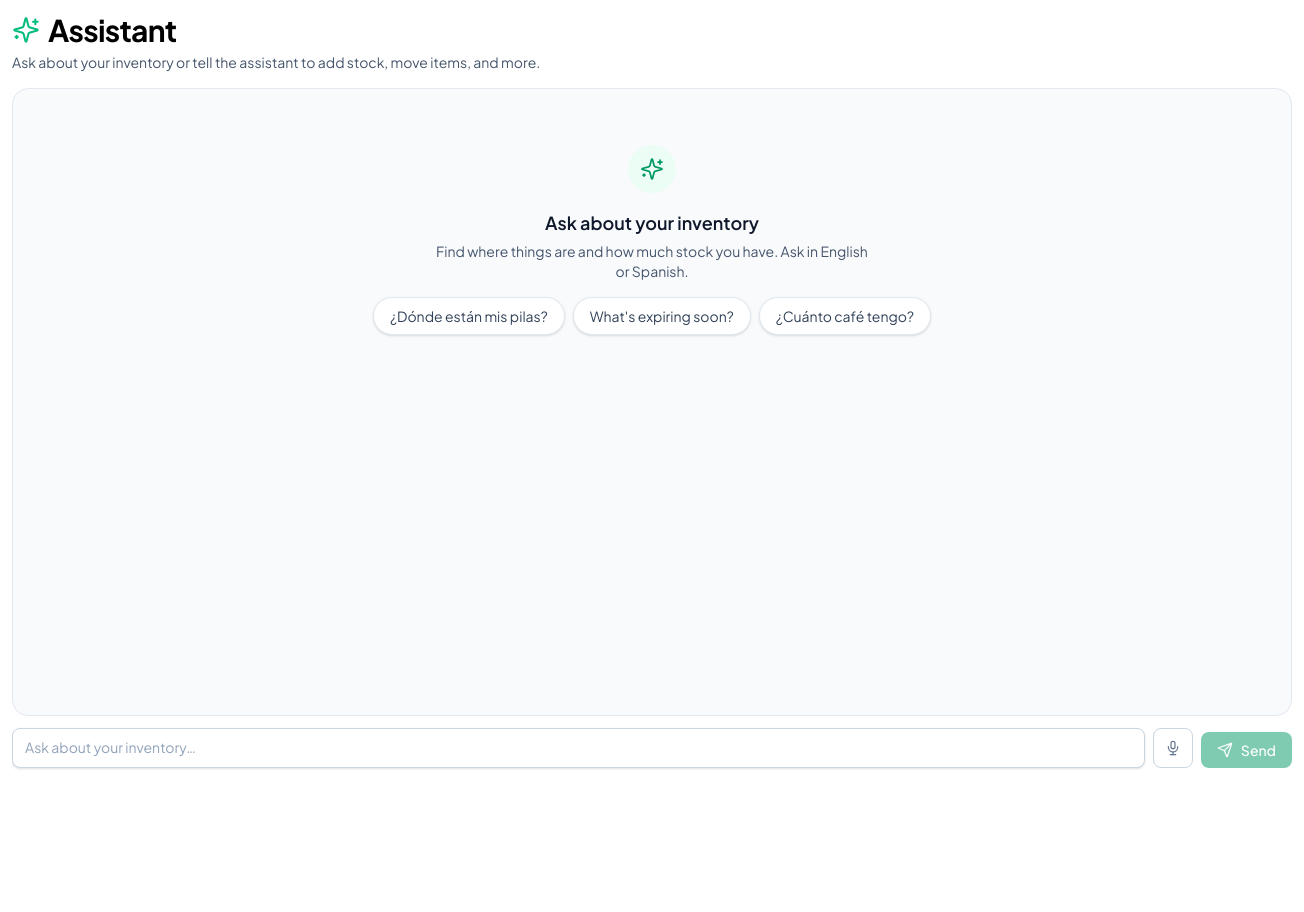
Test case: AssistantView › shows an error when the backend fails
The width and height of the screenshot is (1304, 912).
In the text box named "Ask the assistant": (578, 748) top-left (12, 728), bottom-right (1145, 768), type "Where is the rice?"
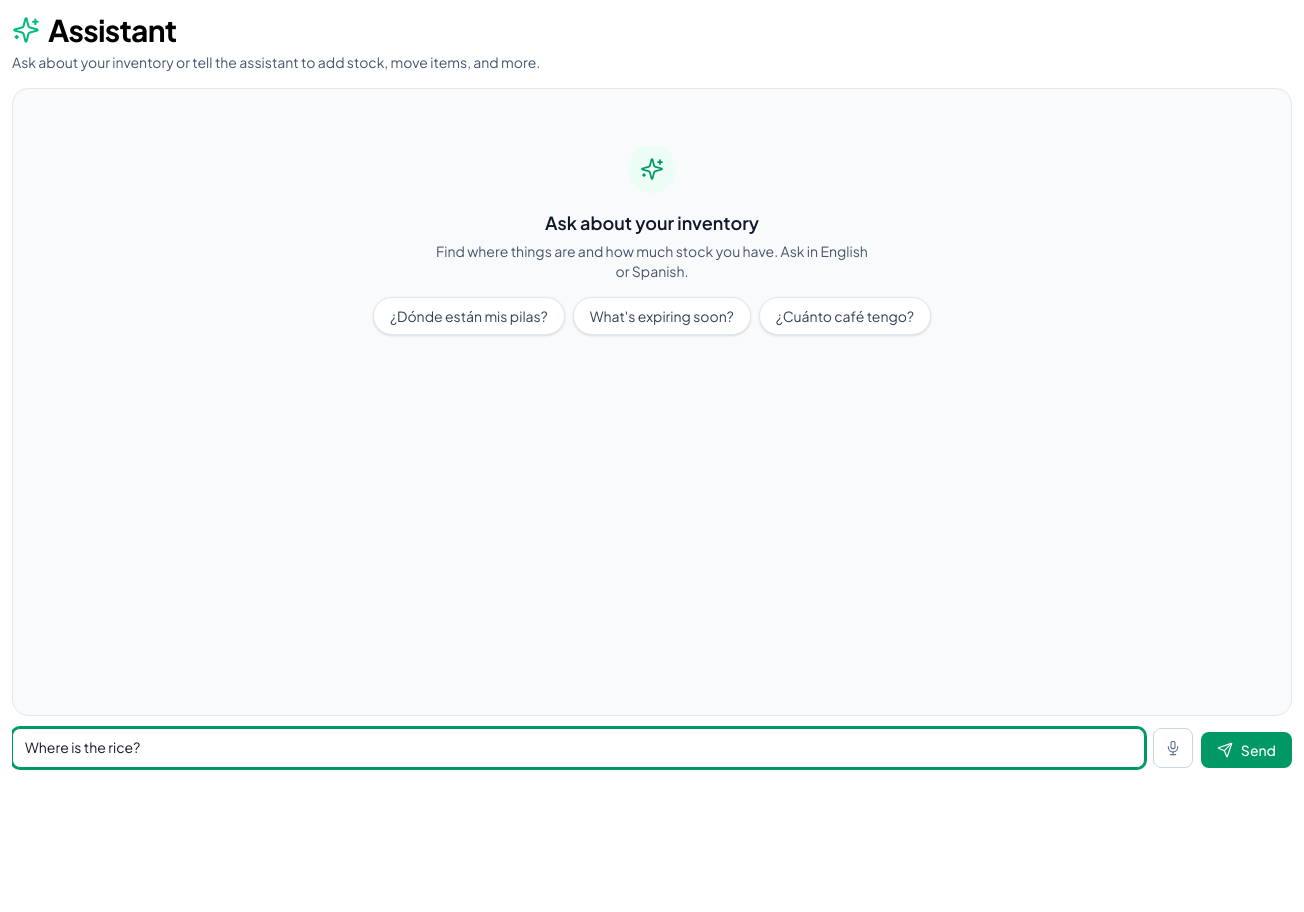
Click the button with aria-label "Send message": (1246, 750) top-left (1201, 732), bottom-right (1292, 768)
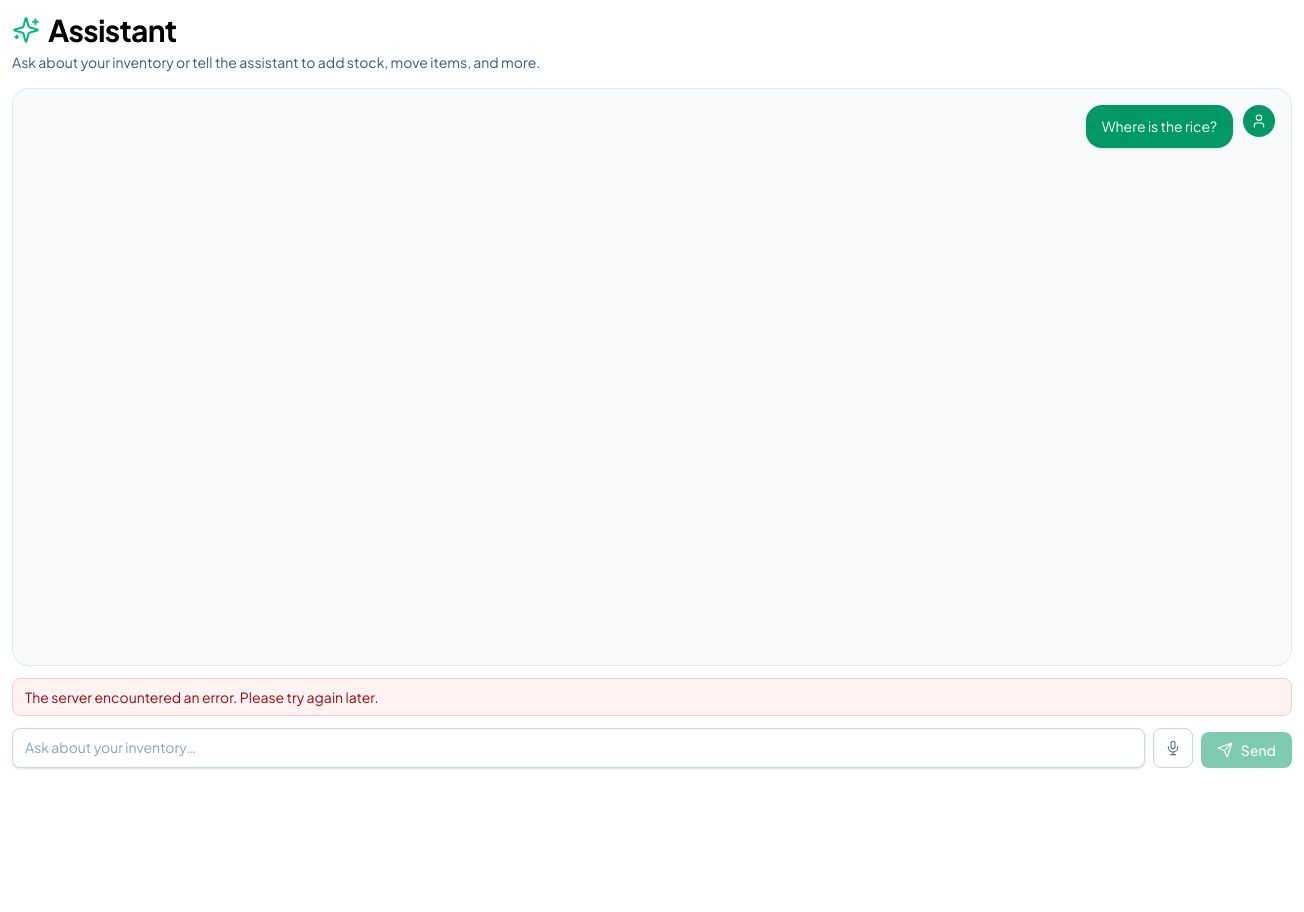
Now the message "The server encountered an error. Please try again later." is shown, box top-left (12, 678), bottom-right (1292, 716)
